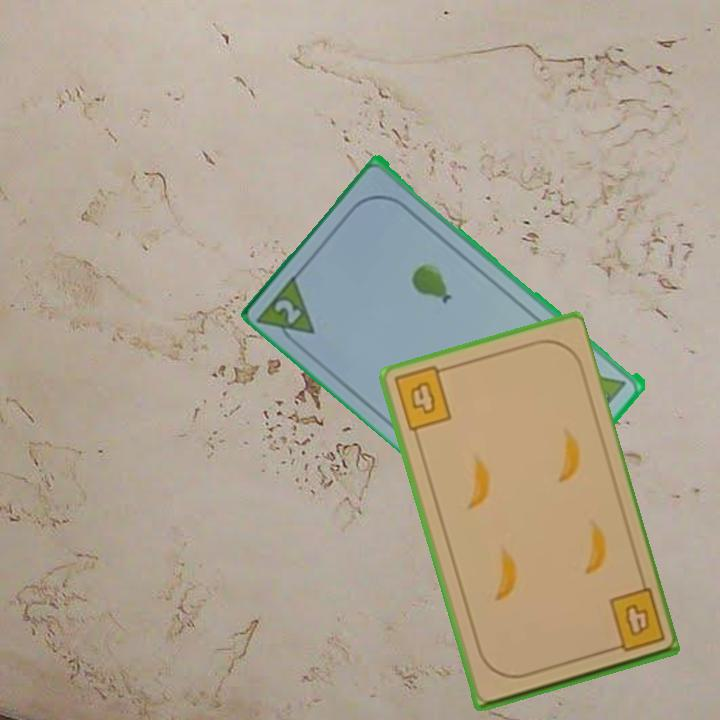2p: (255, 269, 319, 353)
4b: (390, 362, 454, 435), (603, 585, 668, 655)
